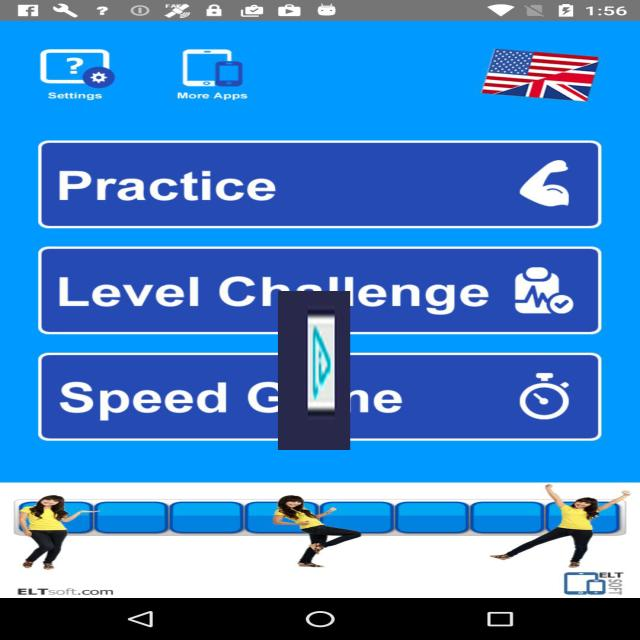sneaking: (278, 291, 350, 450)
